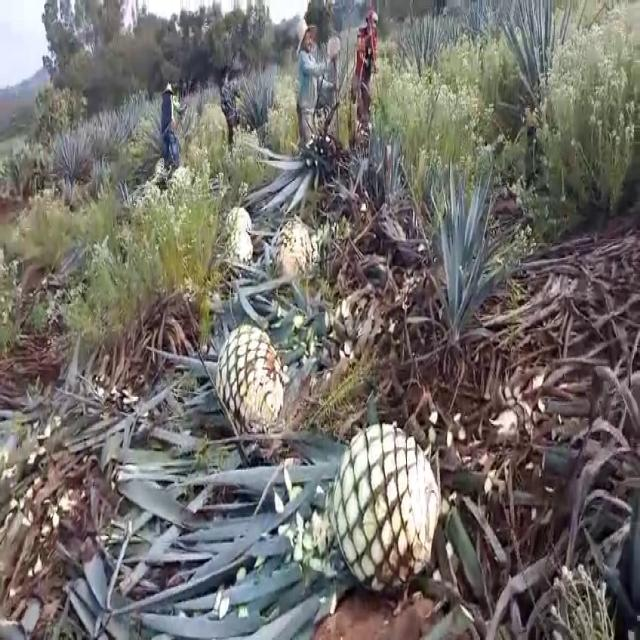agave: (329, 412, 448, 592), (215, 320, 290, 450), (267, 215, 313, 291)
